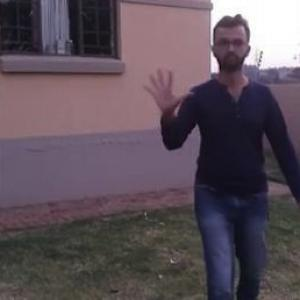follow_hand: (138, 65, 195, 118)
